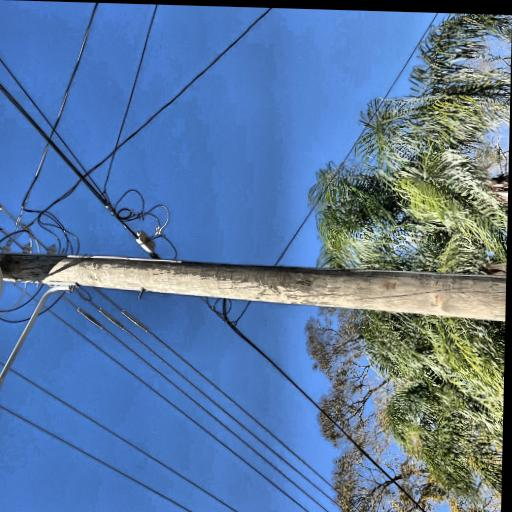pole: (47, 2, 148, 512)
street light: (0, 89, 108, 213)
transformer: (73, 25, 133, 133)
